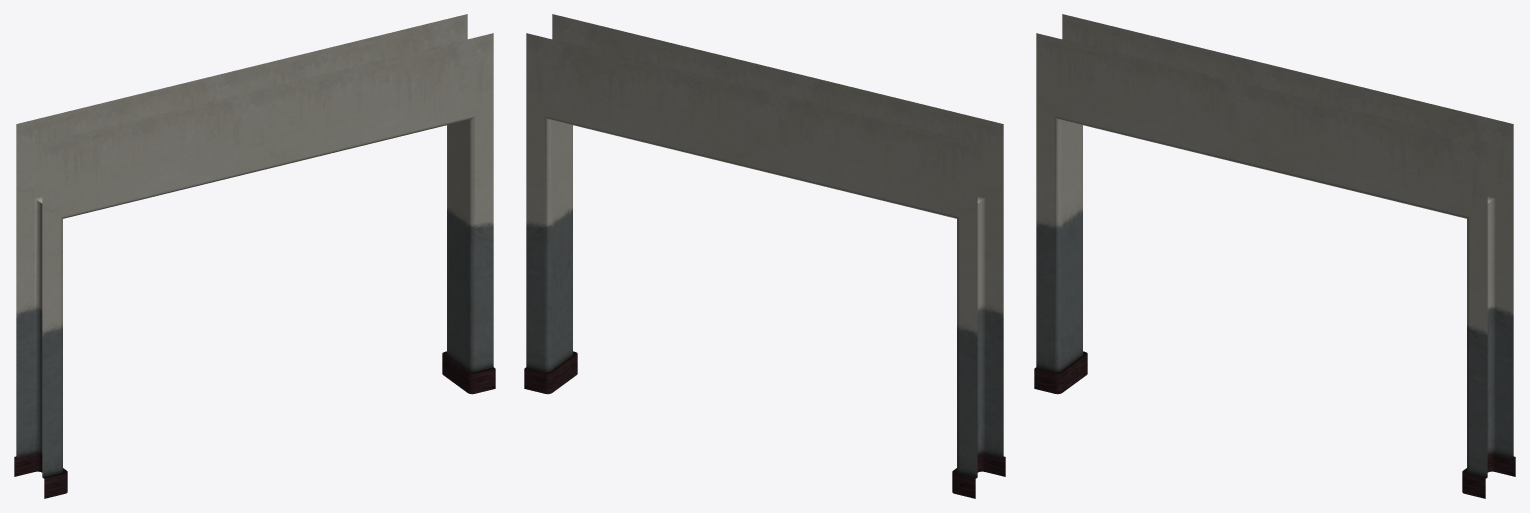
Rendered from Wall 4 Gate 2.fbx.
The picture shows the model from 3 angles, left to right: view 1: azimuth 30°, elevation 25°; view 2: azimuth 150°, elevation 25°; view 3: azimuth 330°, elevation 25°; orthographic projection.
Parts seen in each view (by area): view 1: Wall_4_Gate_2; view 2: Wall_4_Gate_2; view 3: Wall_4_Gate_2.
Boxes of the visible parts, x1=… form: Wall_4_Gate_2: x1=14, y1=14, x2=495, y2=498; Wall_4_Gate_2: x1=524, y1=14, x2=1005, y2=498; Wall_4_Gate_2: x1=1034, y1=14, x2=1515, y2=498.
Size of the model in its own units: 400 by 300 by 46.
